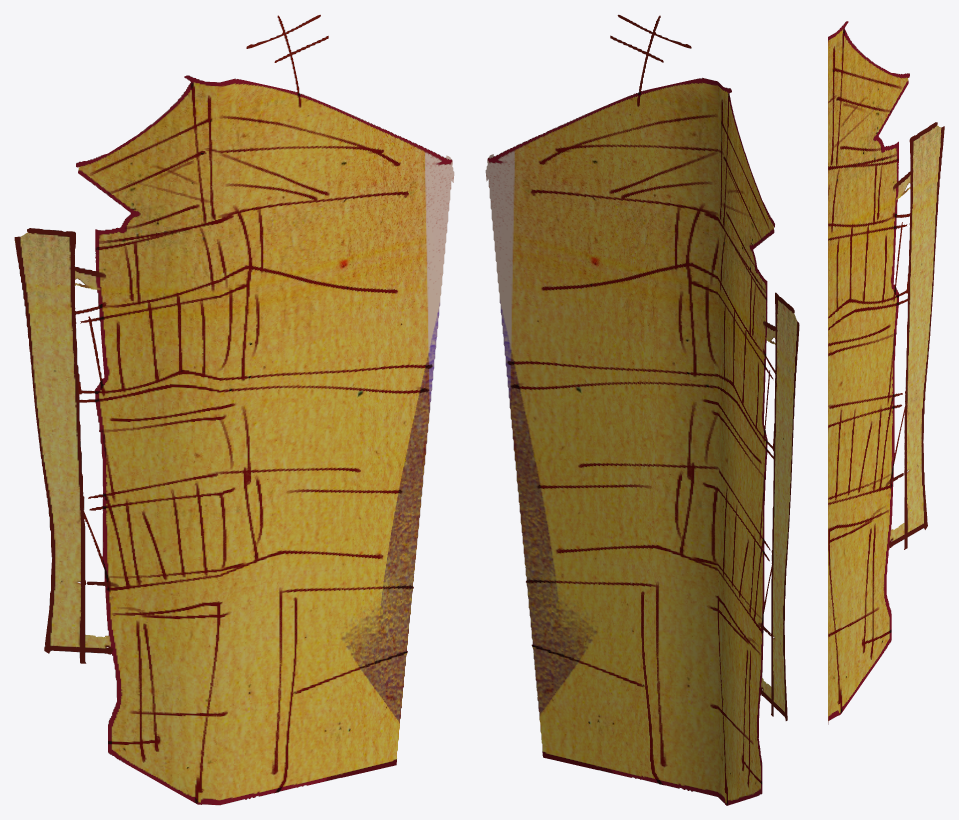
Rendered from 01_front_bld_04.fbx.
The picture shows the model from 3 angles, left to right: view 1: azimuth 30°, elevation 25°; view 2: azimuth 150°, elevation 25°; view 3: azimuth 270°, elevation 25°; orthographic projection. The views are drawn at different scales.
Visible parts, largest first — view 1: 房子_04; view 2: 房子_04; view 3: 房子_04.
Part boxes in pixels (left/top/right/bottom): 房子_04: left=14, top=14, right=454, bottom=805; 房子_04: left=485, top=14, right=799, bottom=805; 房子_04: left=828, top=21, right=944, bottom=724.
Bounding box in the file's own units: 370 × 726 × 104.
Materials: 1 (1 with a texture image).
